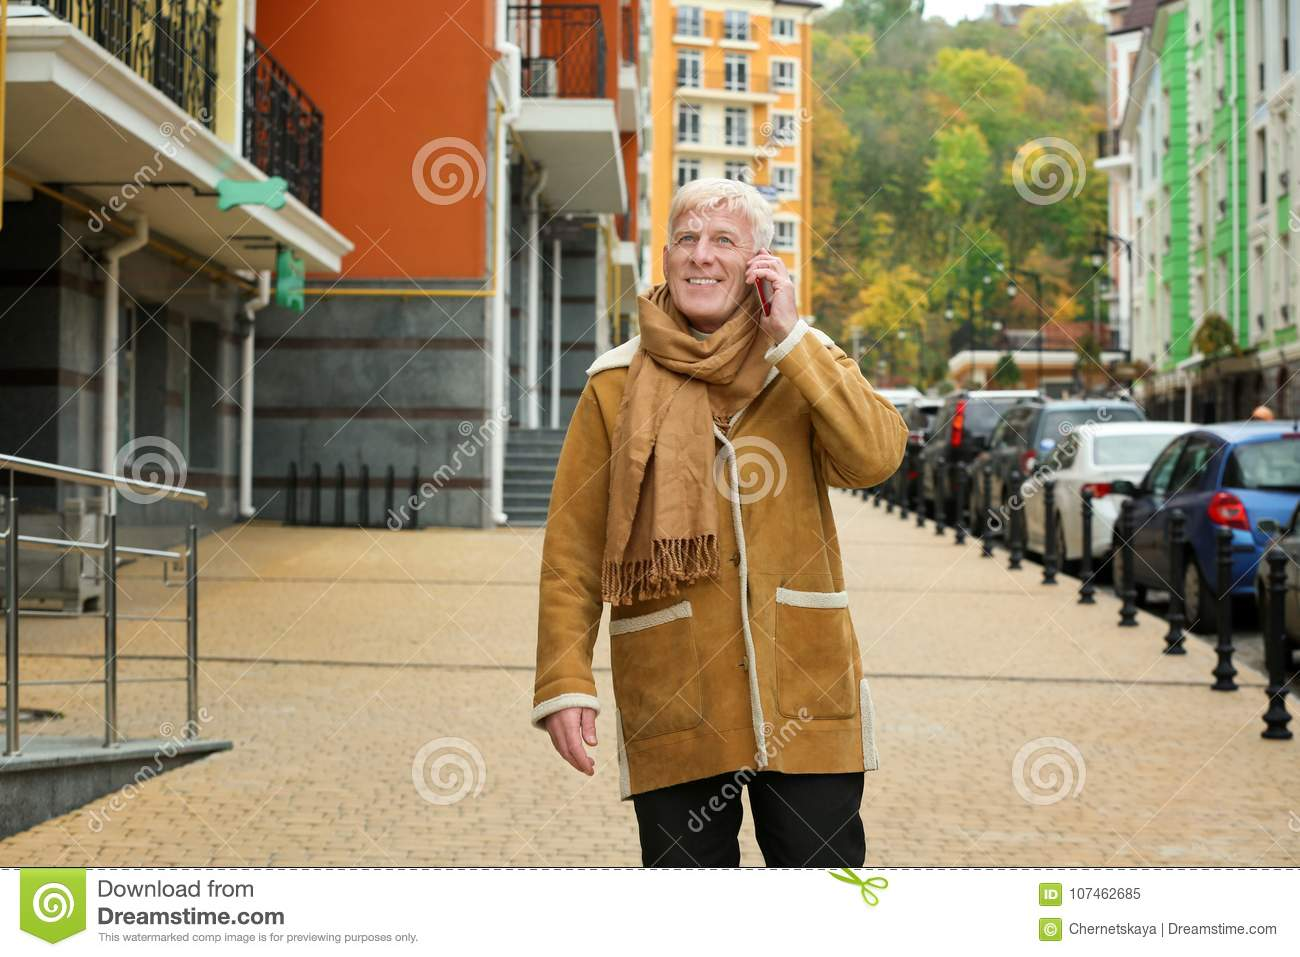phone: (749, 251, 778, 320)
talk: (671, 224, 795, 340)
